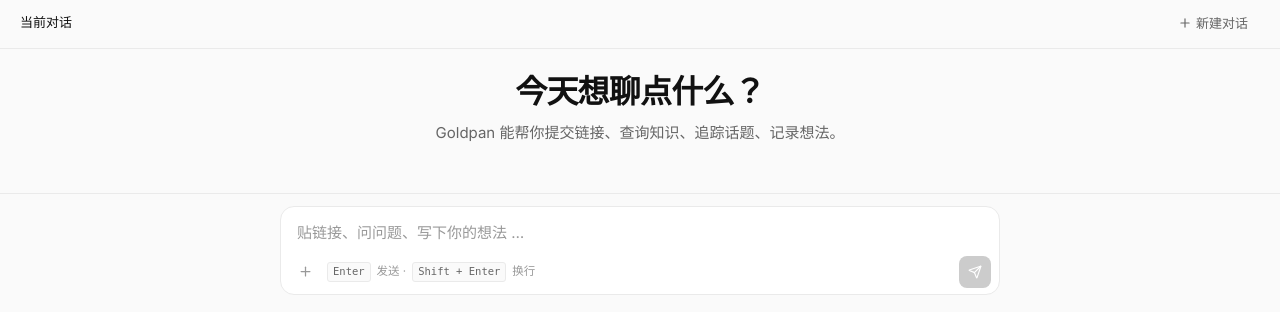
ChatView integration › renders live wait responses on the user bubble instead of a plain assistant action
This screenshot has width=1280, height=312.
Type "明天那个" into the text box.
click(640, 228); type("明天那个")  # box x1=281 y1=207 x2=999 y2=250
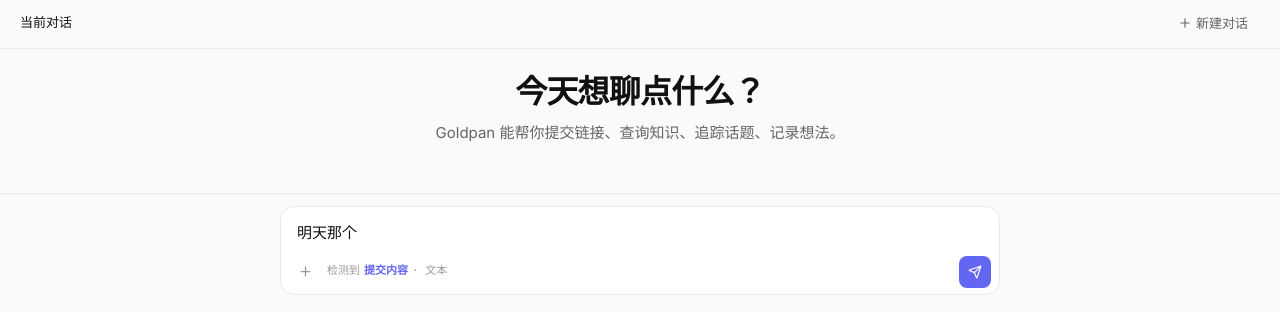
Submit the form, box x1=280 y1=206 x2=1000 y2=295
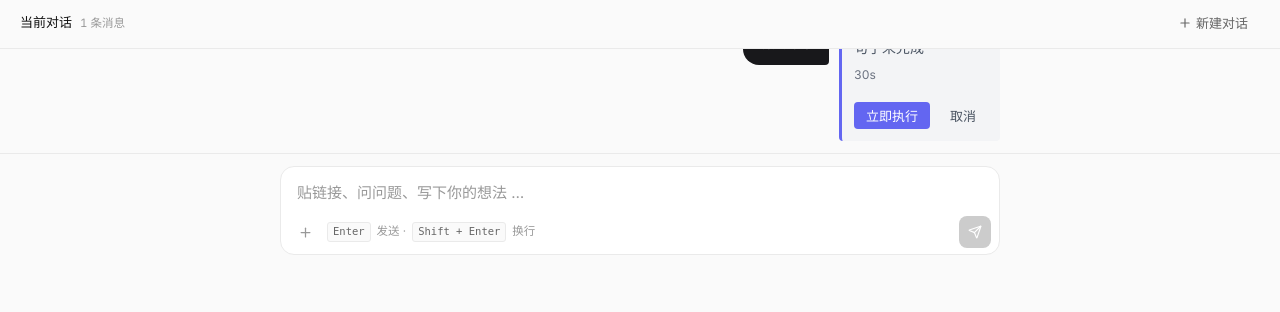
Expected: the text "句子未完成" is shown, x1=854 y1=39 x2=924 y2=56
Expected: the button "立即执行" is shown, x1=854 y1=102 x2=930 y2=129
